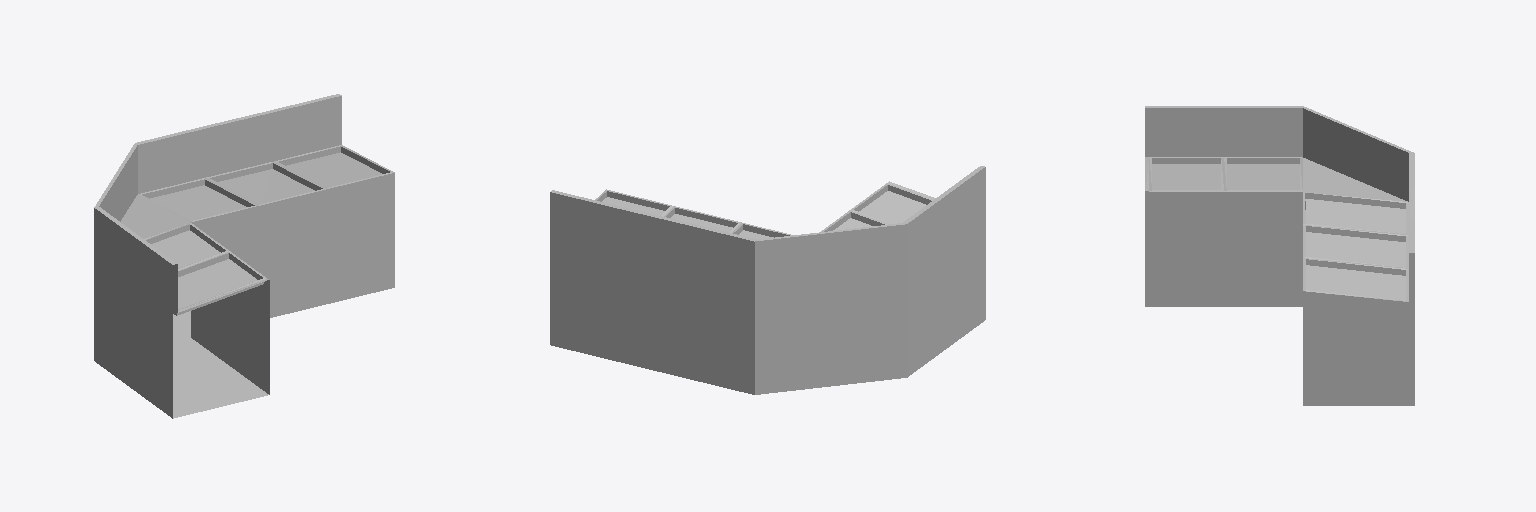
File: MeatSeafoodTable.obj
3 views of the same model, side by side, from view 1: azimuth 30°, elevation 25°; view 2: azimuth 150°, elevation 25°; view 3: azimuth 270°, elevation 25° (orthographic).
Parts seen in each view (by area): view 1: MeatSeafood_Table; view 2: MeatSeafood_Table; view 3: MeatSeafood_Table.
Part boxes in pixels (x1,y1,x2,y2): MeatSeafood_Table: (94, 94, 394, 418); MeatSeafood_Table: (550, 166, 985, 394); MeatSeafood_Table: (1145, 106, 1414, 405).
Size of the model in its own units: 2.63 by 1.28 by 2.04.